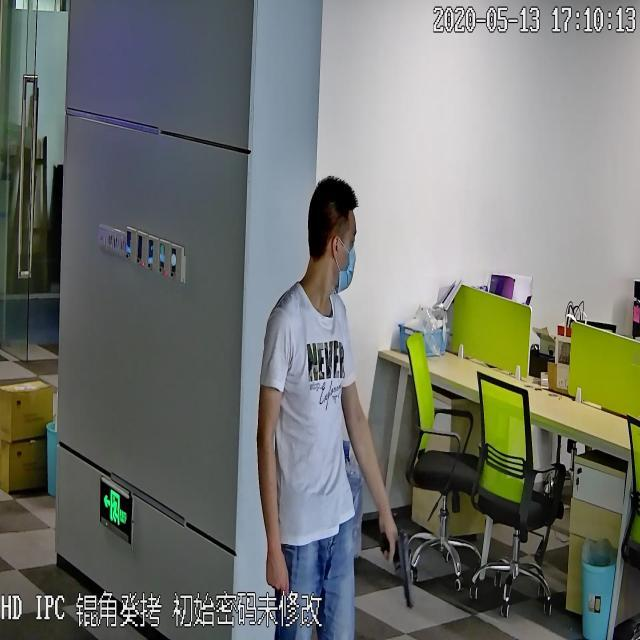gun: (376, 515, 416, 611)
